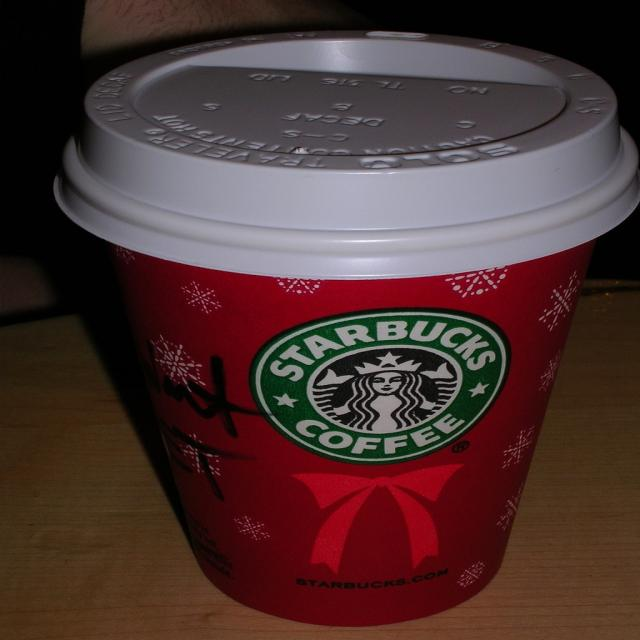starbucks: (254, 311, 509, 463)
